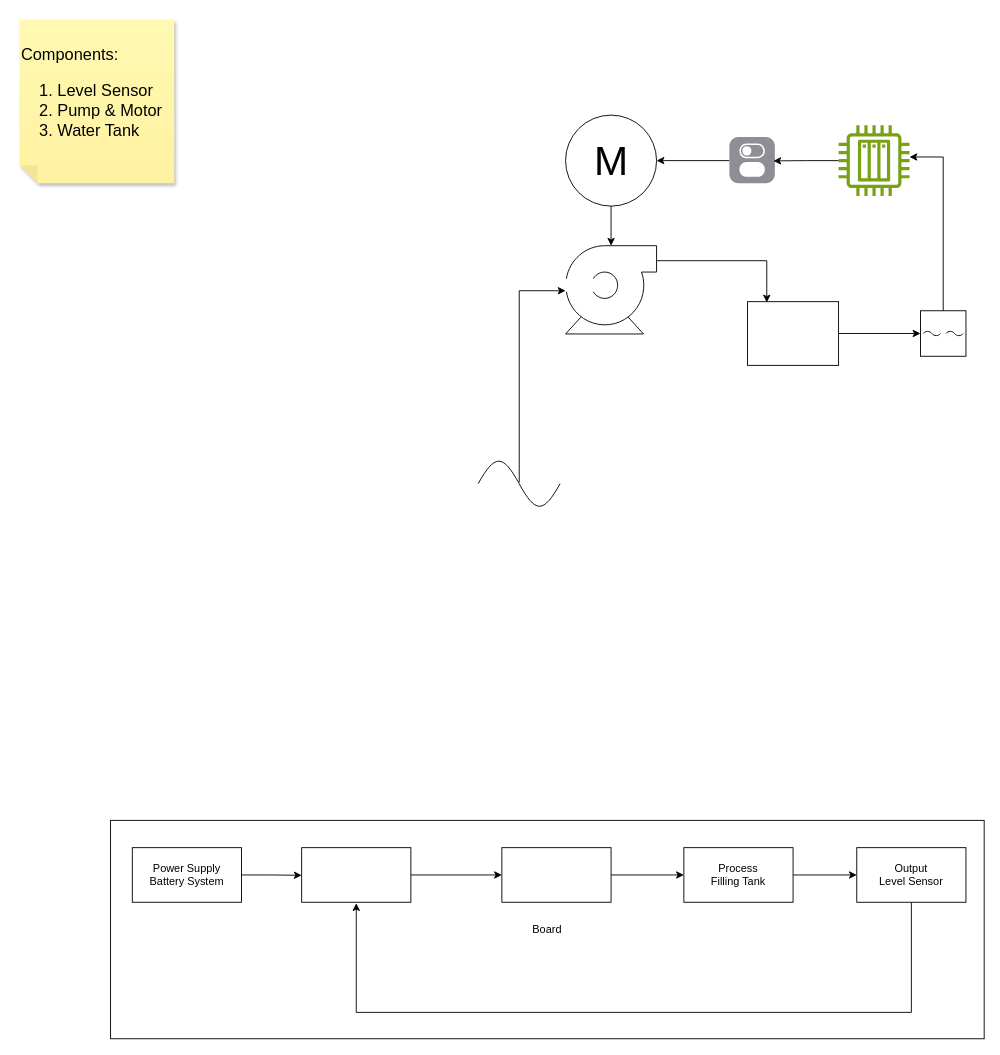
Image size: 1000x1055. Some labels were removed from this diagram. Each missing label, with the centre of its shape:
Controller ESP 32: [356,874]
Input switch Motor& Pump: [556,874]
Tank: [793,333]
